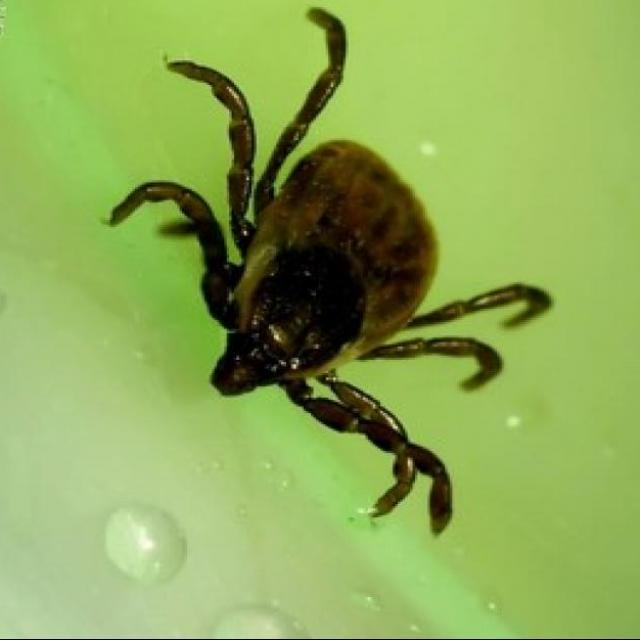Rhipicephalus Sanguineus-F: (108, 10, 554, 536)
